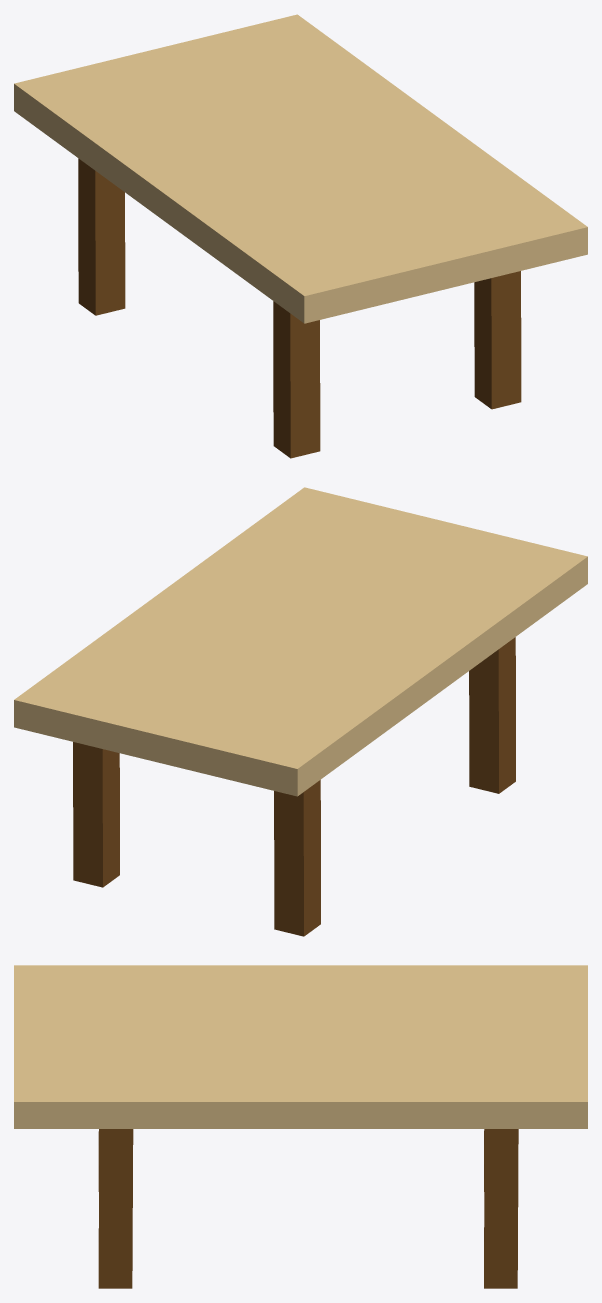
The model's file is mejamakan_low poly.fbx.
3 views of the same model, one above another, from view 1: azimuth 30°, elevation 25°; view 2: azimuth 150°, elevation 25°; view 3: azimuth 270°, elevation 25° (orthographic).
Parts seen in each view (by area): view 1: Cube.036; view 2: Cube.036; view 3: Cube.036.
Boxes of the visible parts, x1,y1,x2,y2 form: Cube.036: (14, 14, 587, 458); Cube.036: (14, 487, 587, 936); Cube.036: (14, 965, 587, 1288).
Bounding box in the file's own units: 156 × 106 × 278.
